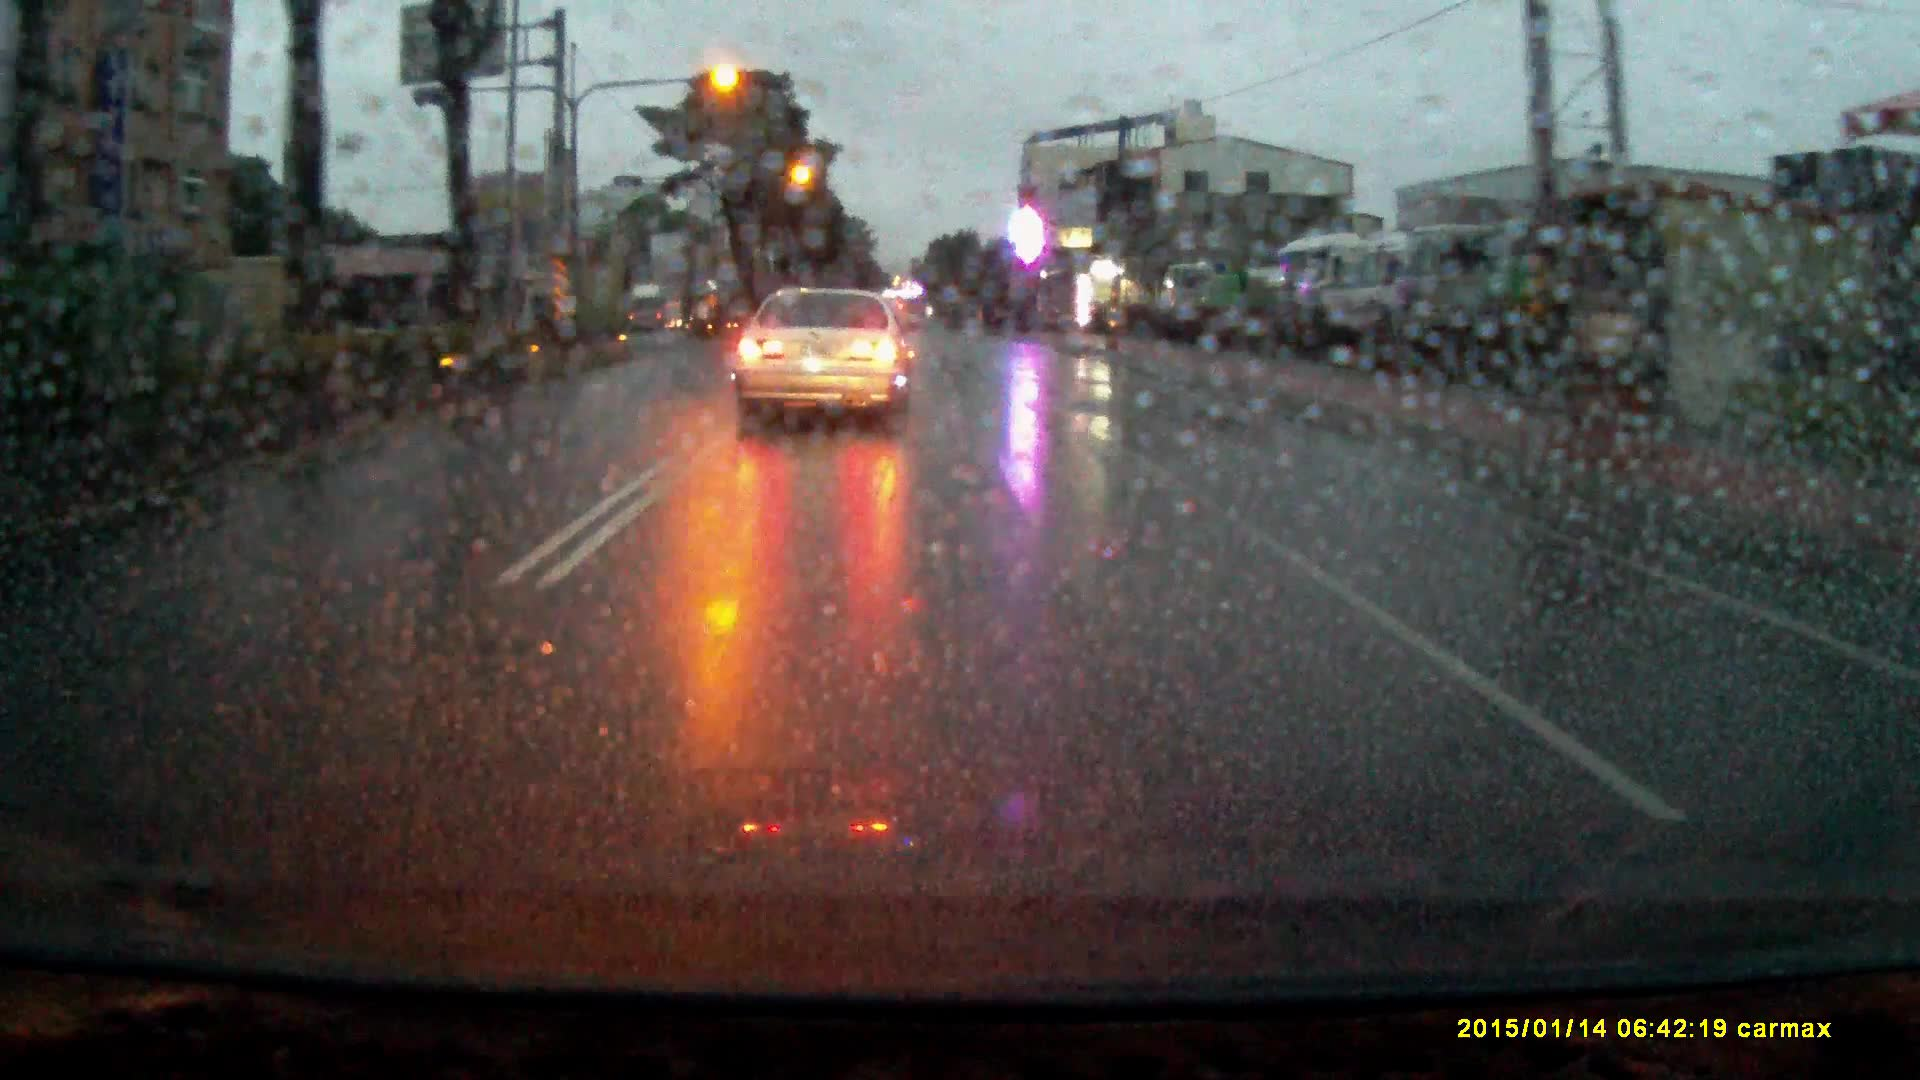vehicle: (735, 287, 919, 436), (1398, 228, 1511, 375), (1321, 237, 1411, 359), (1282, 237, 1367, 345), (1201, 272, 1288, 327), (1164, 260, 1222, 335), (630, 286, 684, 334)
